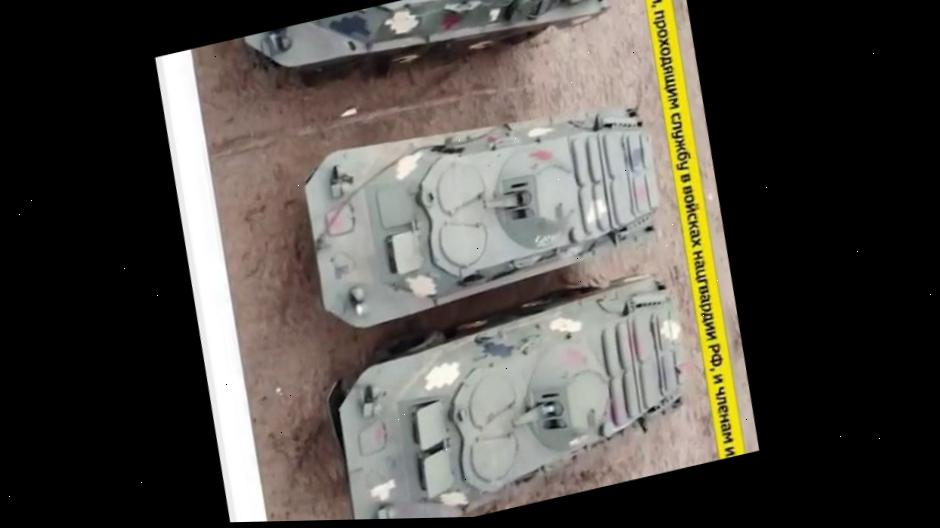tank: (277, 259, 722, 521), (266, 79, 687, 351), (213, 0, 621, 116)
